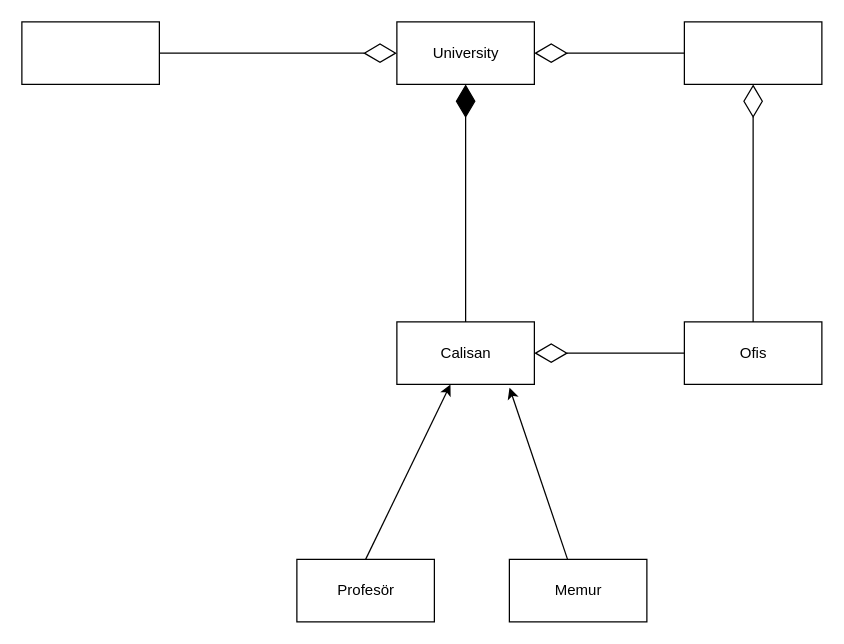
Image size: 844x644. Some labels were removed from this diagram. The centre of each missing label's shape, as x and y in pixels:
"Departman" goes at pixel 752 52.
"Siniflik" goes at pixel 90 52.
